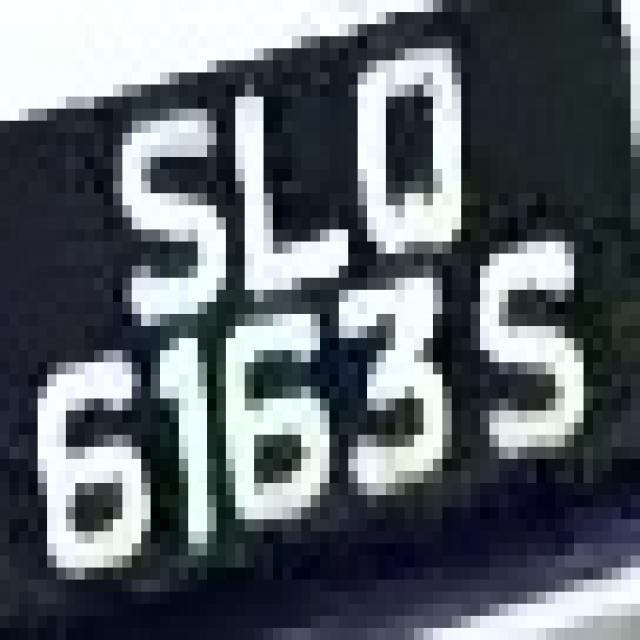1: (141, 278, 226, 592)
3: (329, 242, 452, 495)
6: (19, 338, 160, 592), (216, 302, 339, 543)
L: (198, 84, 348, 314)
Q: (329, 48, 462, 266)
S: (461, 181, 584, 495), (94, 60, 217, 326)
